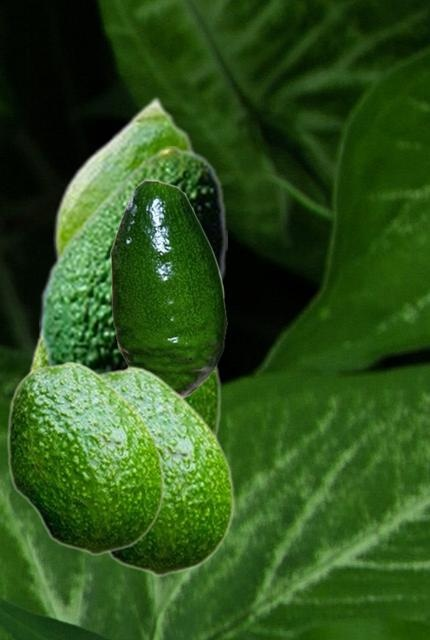avocado: (39, 146, 226, 371), (6, 360, 163, 554), (96, 365, 233, 575), (110, 179, 226, 398), (53, 95, 199, 261), (26, 325, 221, 439)
